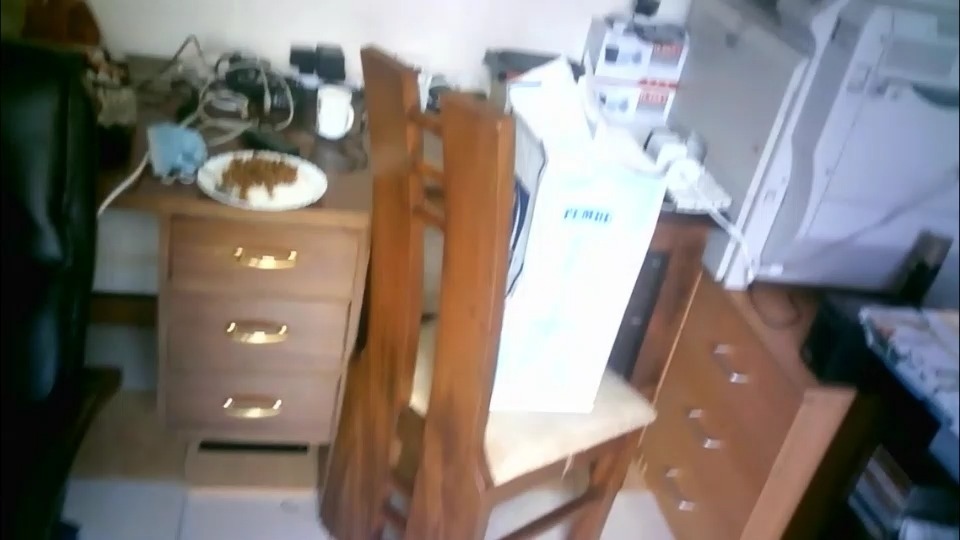wheat_flour_blue_label: (434, 59, 659, 425)
